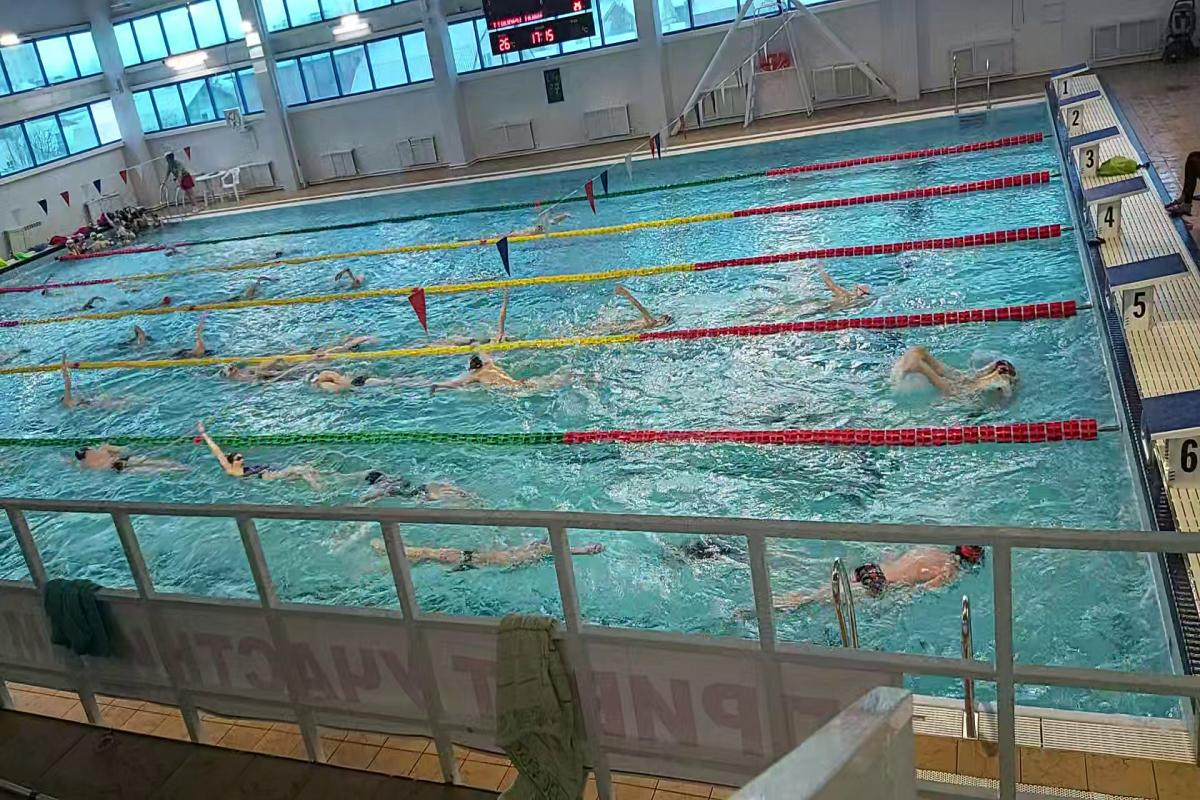swimmer: (762, 542, 981, 603), (891, 332, 1053, 414), (356, 535, 614, 573), (200, 438, 314, 484), (68, 442, 189, 482), (354, 461, 466, 503), (440, 352, 535, 394), (801, 272, 880, 315), (35, 377, 120, 413), (314, 360, 397, 396), (596, 292, 678, 328), (306, 329, 380, 351), (222, 359, 287, 384), (224, 276, 284, 299), (114, 322, 163, 348), (174, 329, 226, 353), (330, 265, 372, 290)
